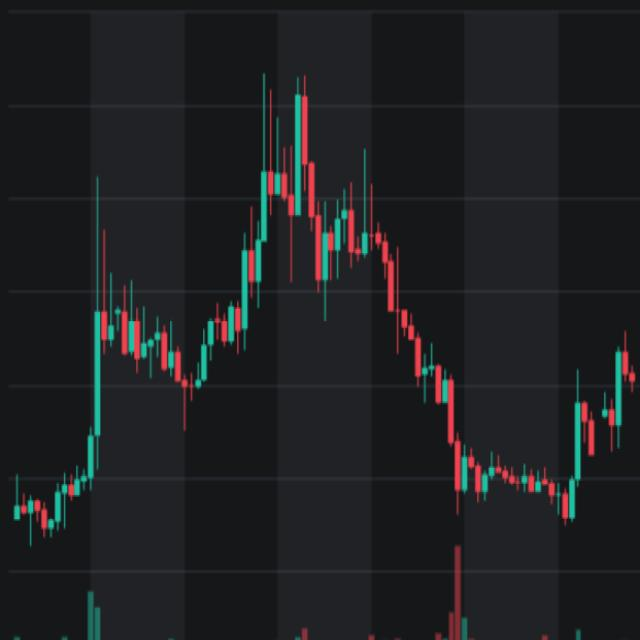Falling-Wedge: (22, 36, 602, 603)
